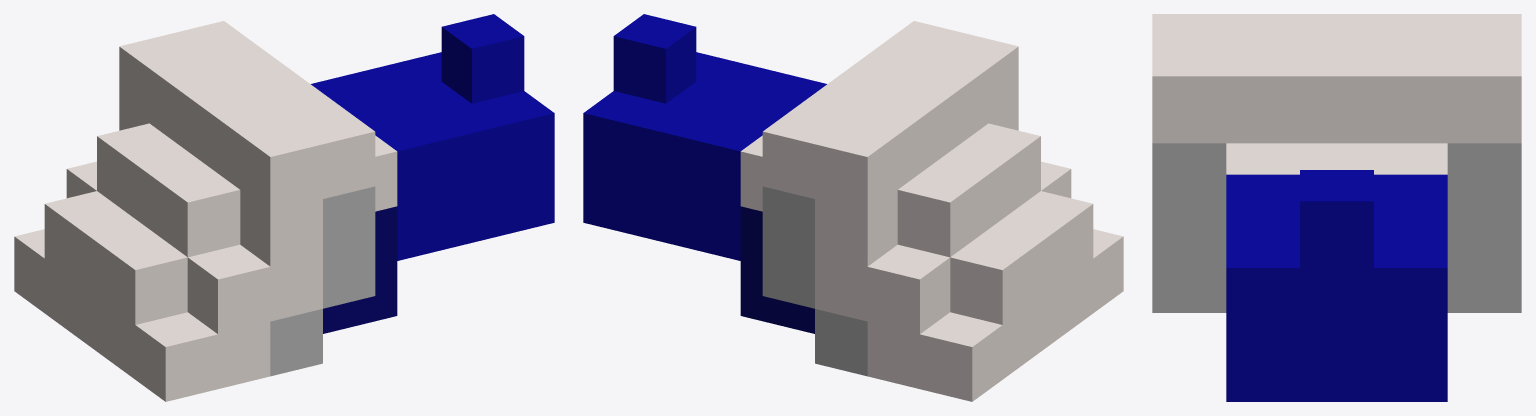
Rendered from AgriasArmUpperL.fbx.
3 renders of one model, left to right at view 1: azimuth 30°, elevation 25°; view 2: azimuth 150°, elevation 25°; view 3: azimuth 270°, elevation 25°, orthographic. The views are drawn at different scales.
Visible parts, largest first — view 1: AgriasArms_part_2; view 2: AgriasArms_part_2; view 3: AgriasArms_part_2.
Boxes of the visible parts, bbox=[...] form: AgriasArms_part_2: bbox=[14, 14, 554, 401]; AgriasArms_part_2: bbox=[583, 14, 1123, 401]; AgriasArms_part_2: bbox=[1152, 14, 1521, 401].
Bounding box in the file's own units: 8 × 4 × 5.
1 material, 1 textured.
